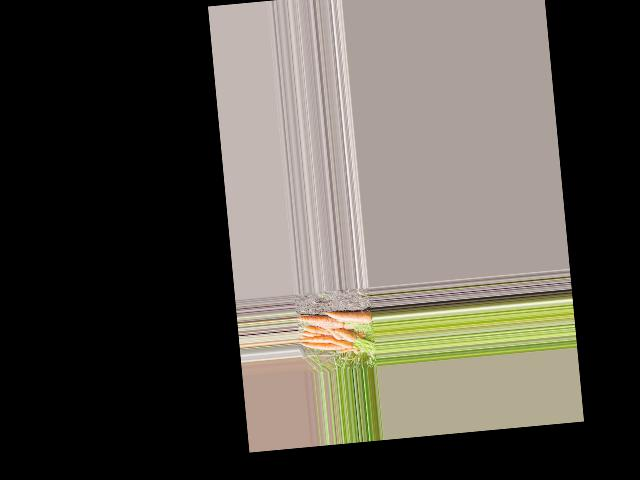carrot: (298, 333, 354, 352)
